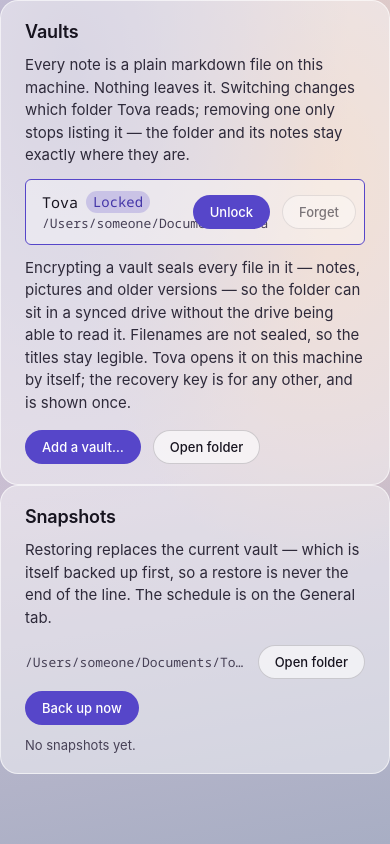
a vault this machine has no key for › says it is locked and asks for the recovery key
Expected: the text "Locked" is shown, [86, 191, 150, 213]
Click the button with aria-label "Unlock Tova": (231, 212) [193, 194, 270, 228]
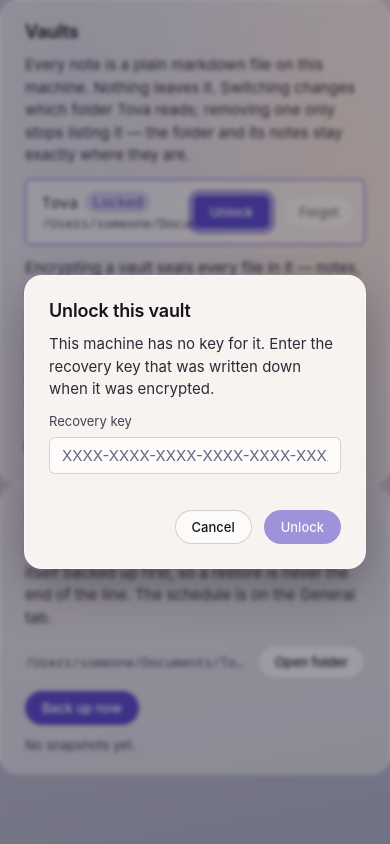
Expected: the field labelled "Recovery key" is shown, [49, 437, 341, 474]
